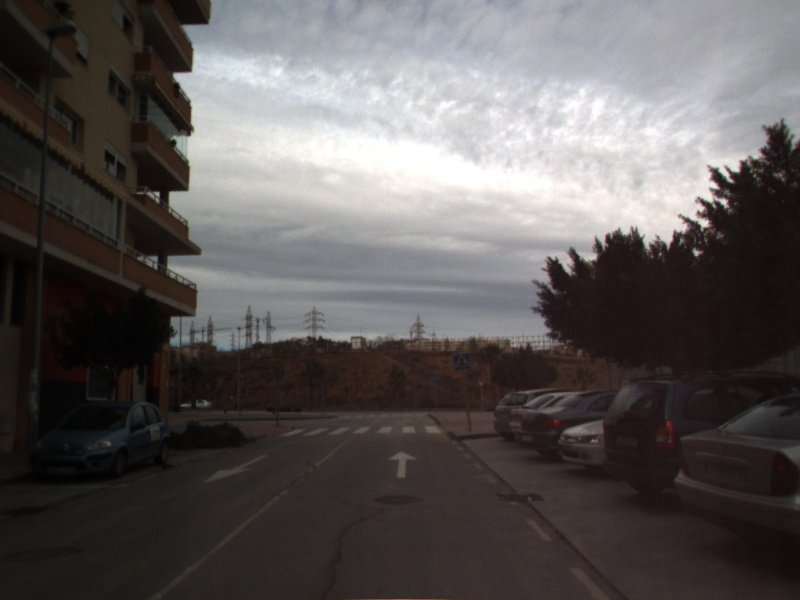STRAIGHT: (387, 449, 420, 480)
